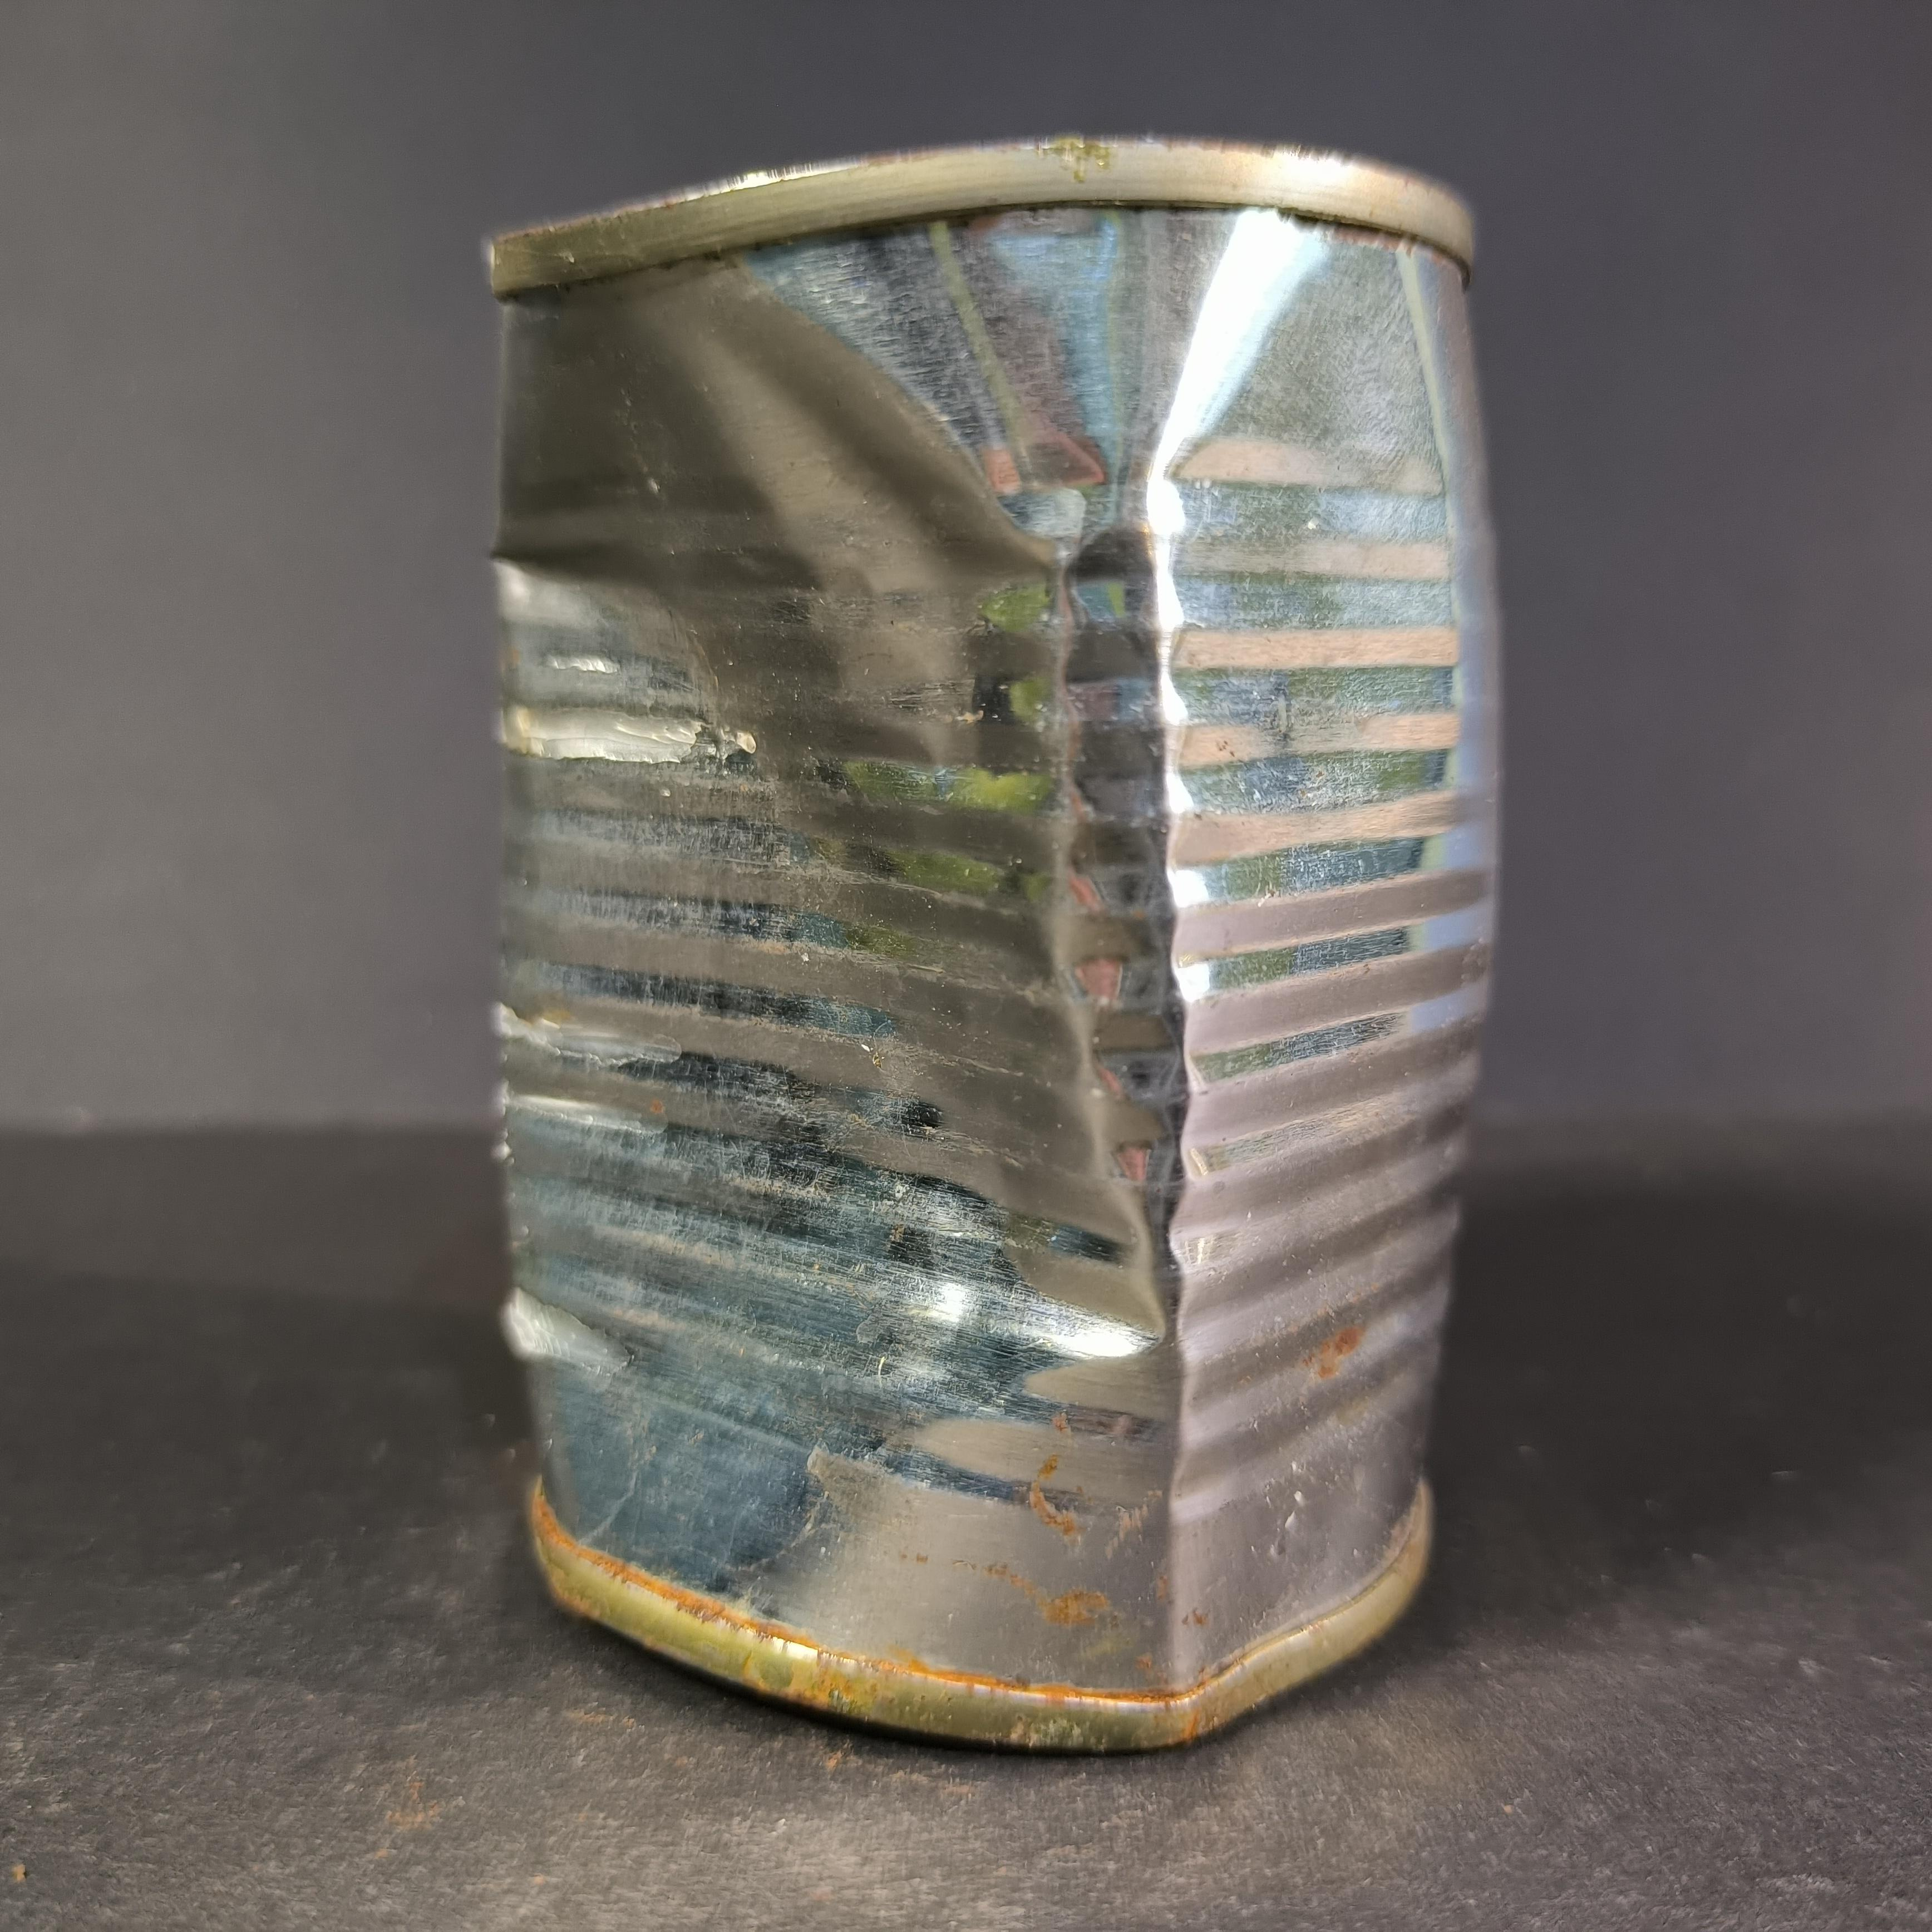Major Defect: (485, 136, 1502, 1755)
